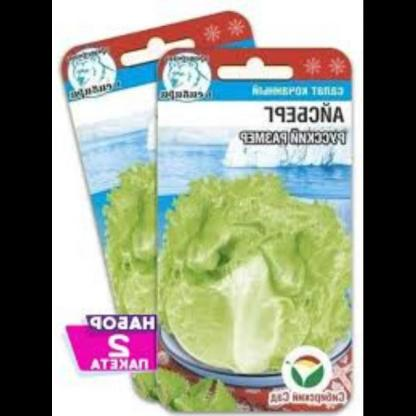salad: (162, 159, 346, 406), (106, 152, 169, 408)
